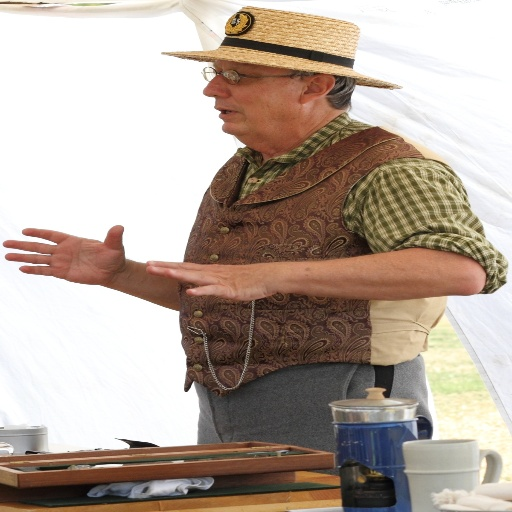hand: (5, 221, 177, 286), (144, 259, 277, 302)
